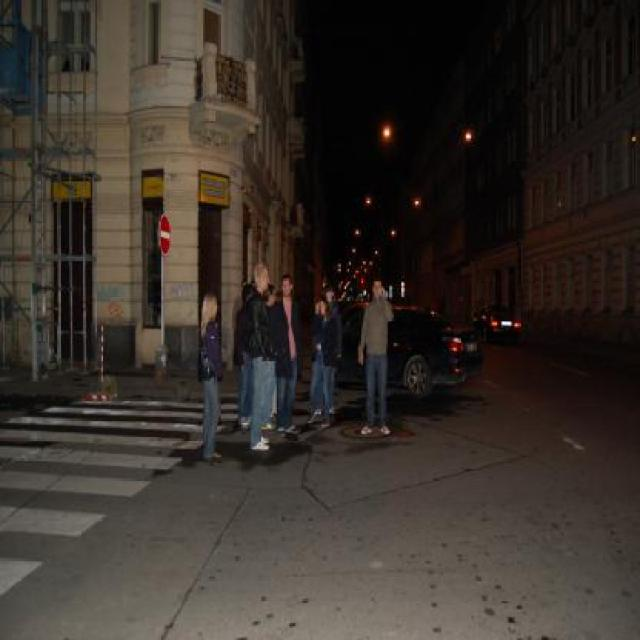Person: (236, 260, 301, 452), (356, 278, 395, 434), (199, 290, 223, 467), (308, 299, 337, 423)
